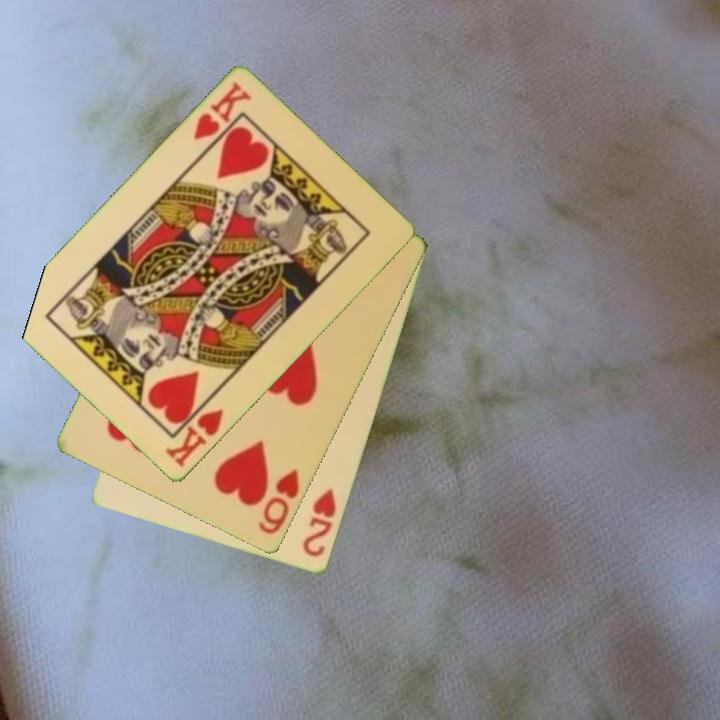2h: (299, 485, 340, 560)
6h: (254, 466, 303, 538)
Kh: (161, 393, 227, 471), (189, 78, 255, 144)
